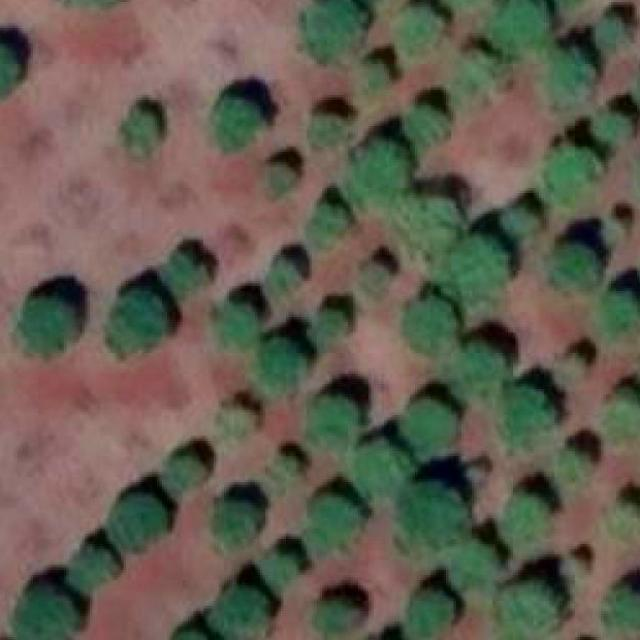Tree: (487, 577, 563, 640), (536, 131, 598, 203), (398, 485, 467, 549), (447, 240, 510, 306), (494, 384, 556, 450), (394, 195, 462, 255), (341, 140, 406, 202), (106, 291, 168, 355), (297, 0, 356, 64), (13, 294, 72, 357), (359, 438, 415, 502), (448, 344, 505, 406), (396, 396, 453, 456), (15, 585, 74, 640), (312, 392, 373, 445), (549, 243, 606, 298), (442, 542, 500, 596), (113, 496, 167, 553), (488, 0, 547, 52), (406, 296, 456, 357), (312, 500, 363, 558), (207, 97, 266, 146), (300, 592, 358, 639), (256, 336, 307, 389), (453, 54, 503, 108), (502, 496, 556, 546), (208, 590, 260, 640), (213, 496, 260, 551), (542, 49, 588, 104), (211, 299, 262, 348), (594, 394, 640, 445), (387, 7, 441, 48), (109, 111, 152, 162), (596, 299, 639, 348), (258, 552, 307, 594), (597, 7, 639, 54), (72, 547, 113, 593), (406, 599, 454, 638), (299, 108, 340, 153), (414, 111, 449, 162), (164, 253, 208, 293), (161, 451, 205, 491), (606, 590, 640, 640), (308, 206, 344, 252), (266, 255, 304, 296), (604, 497, 640, 540), (318, 301, 351, 346), (594, 109, 632, 148), (556, 449, 592, 487), (263, 160, 296, 200), (504, 203, 539, 240), (355, 64, 389, 99), (217, 405, 252, 439), (268, 456, 296, 494), (0, 40, 21, 89), (356, 260, 389, 291), (549, 353, 585, 381), (174, 616, 216, 640), (48, 0, 132, 11), (604, 214, 632, 245), (446, 0, 498, 15), (633, 52, 640, 104), (544, 0, 596, 5)
